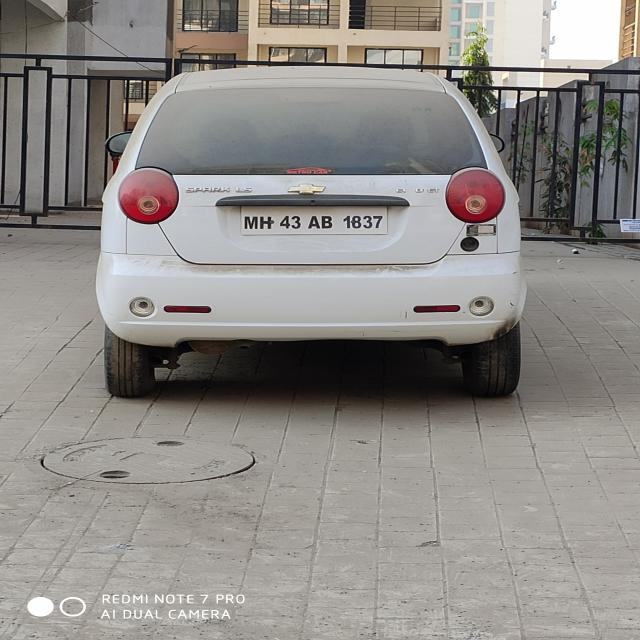Number-Plate: (243, 205, 385, 238)
